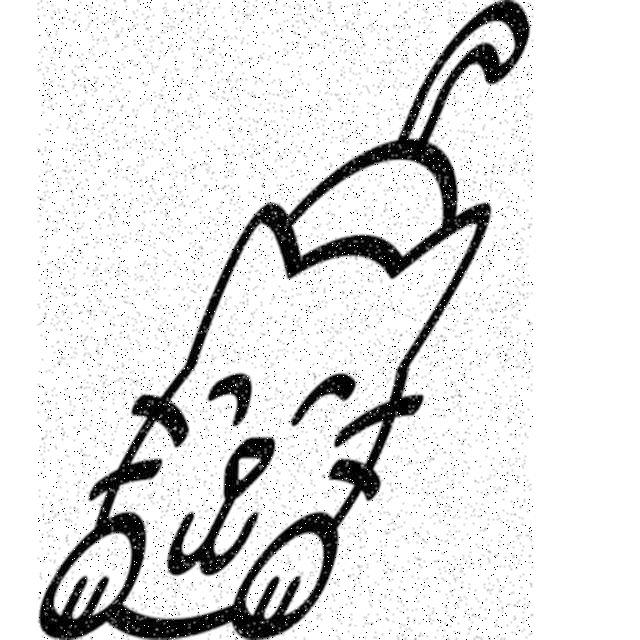cat: (39, 1, 534, 640)
